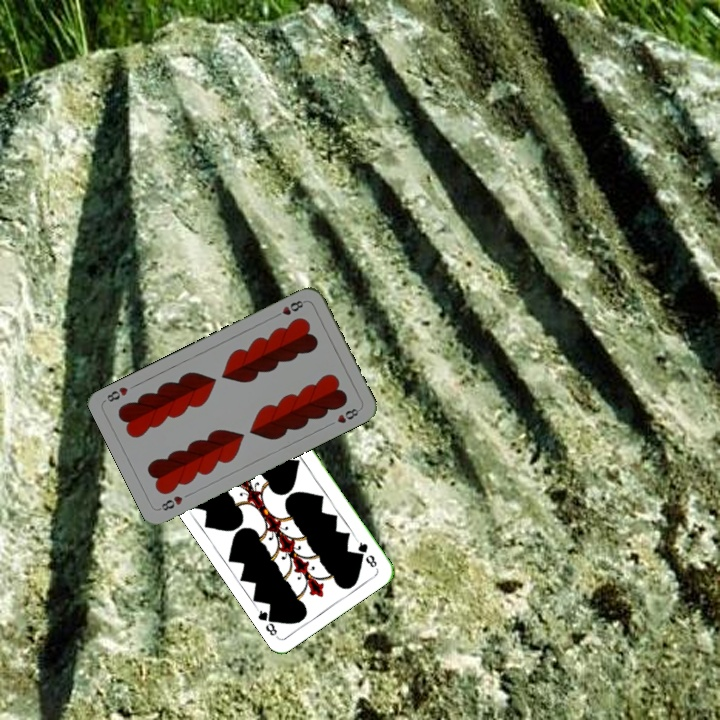G8: (352, 535, 380, 570)
H8: (270, 296, 308, 320), (156, 492, 185, 513)
